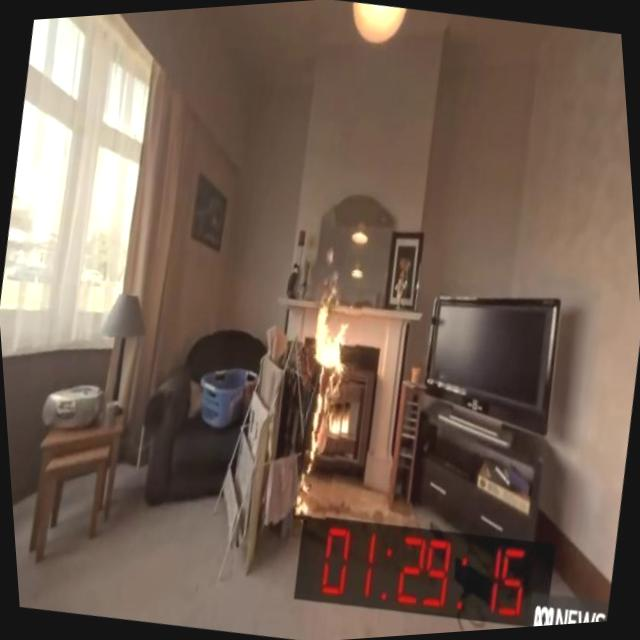fire: (256, 250, 414, 470)
